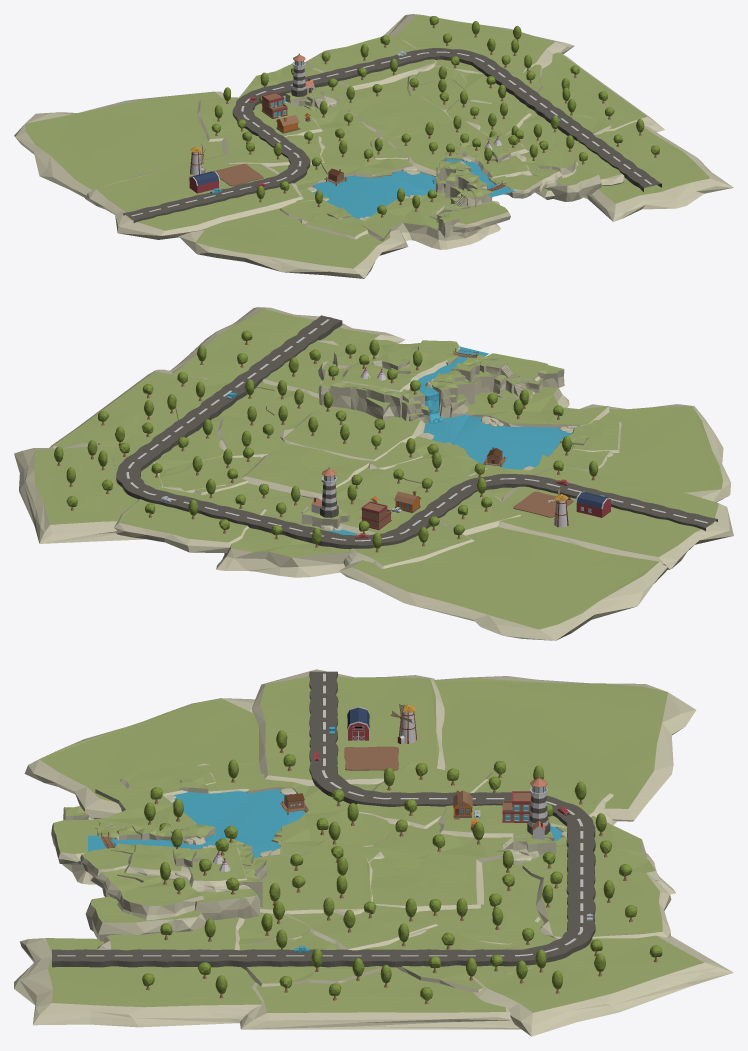
3 views of the same model, one above another, from view 1: azimuth 30°, elevation 25°; view 2: azimuth 150°, elevation 25°; view 3: azimuth 270°, elevation 25° (orthographic). The views are drawn at different scales.
Visible parts, largest first — view 1: Scene; view 2: Scene; view 3: Scene.
Boxes of the visible parts, left/top/right/bottom form: Scene: left=14, top=14, right=733, bottom=278; Scene: left=14, top=307, right=733, bottom=640; Scene: left=14, top=669, right=733, bottom=1036.
Bounding box in the file's own units: 148 × 18.1 × 126.
1 material, 1 textured.
